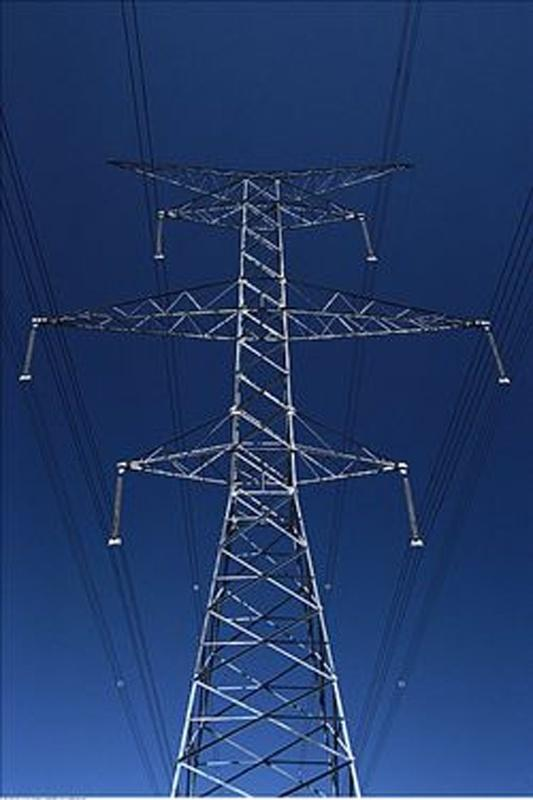power_tower: (40, 154, 481, 786)
